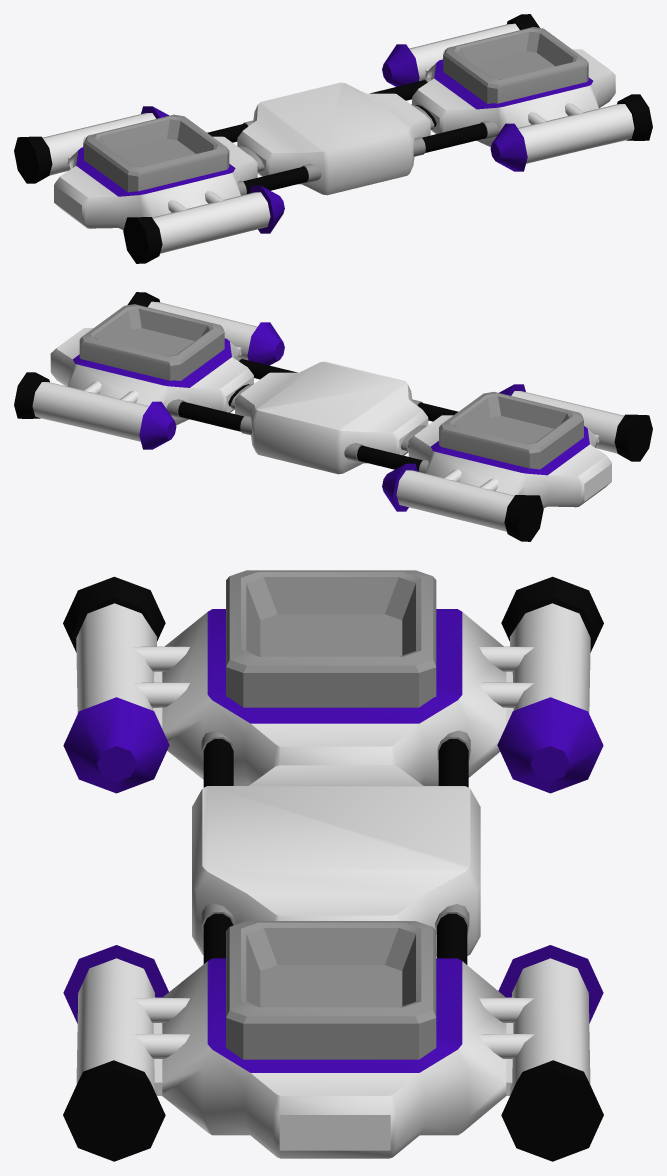
The model's file is Player 2 ship painted.FBX.
3 renders of one model, top to bottom at view 1: azimuth 30°, elevation 25°; view 2: azimuth 150°, elevation 25°; view 3: azimuth 270°, elevation 25°, orthographic. The views are drawn at different scales.
Parts seen in each view (by area): view 1: Box002; view 2: Box002; view 3: Box002.
Boxes of the visible parts, x1,y1,x2,y2 form: Box002: (14, 14, 652, 263); Box002: (14, 292, 652, 541); Box002: (63, 570, 603, 1161).
Bounding box in the file's own units: 304 × 35.39 × 133.
